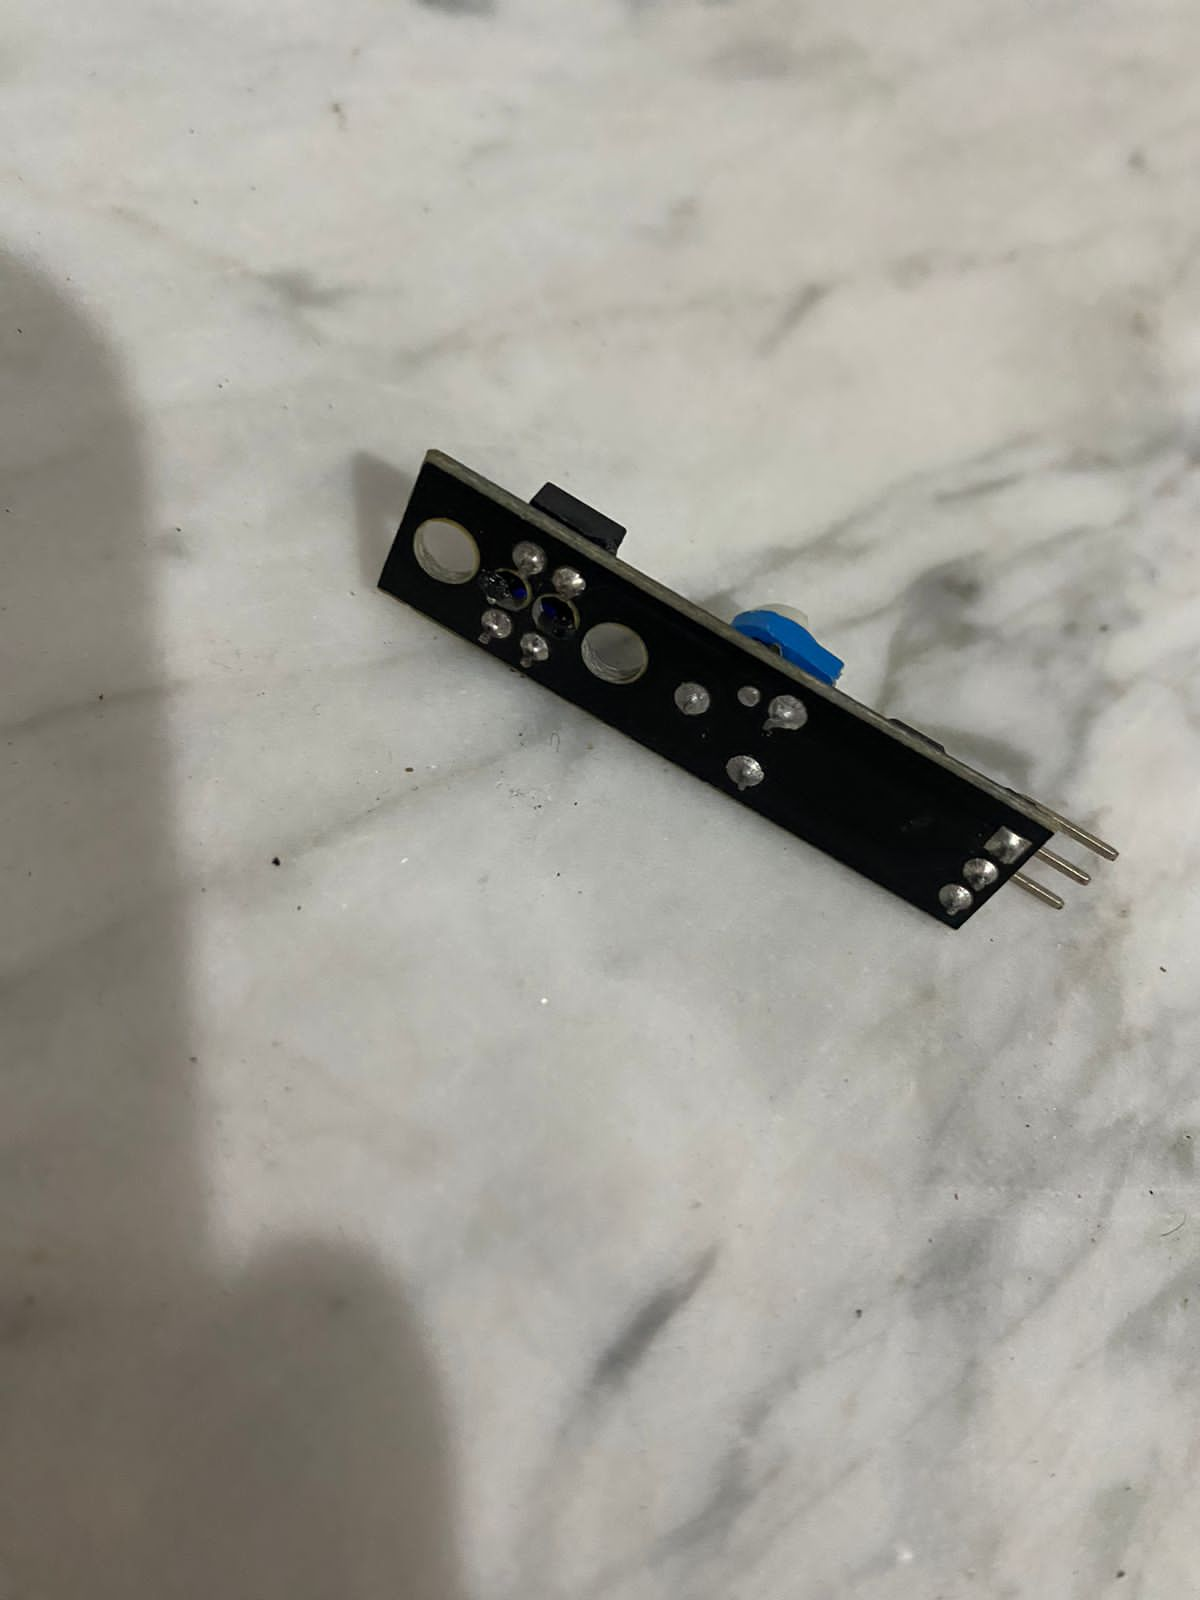ir-sensor: (342, 430, 1127, 947)
